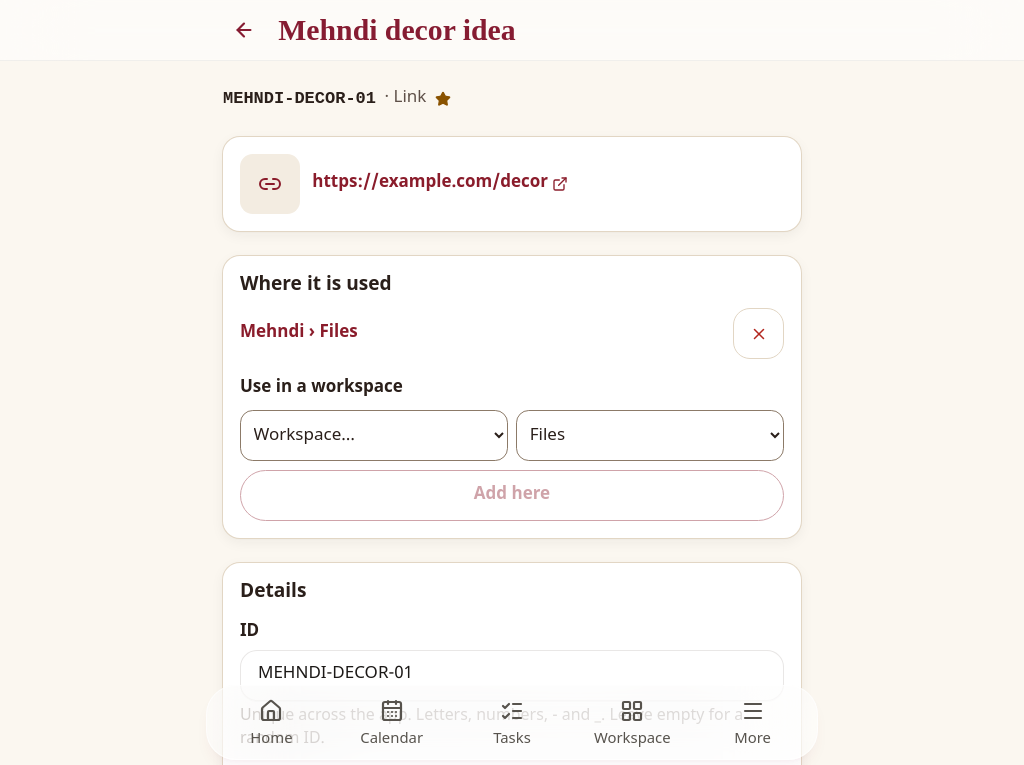
Test case: Attachment Vault › an attachment: the ID is checked while typing; where it is used; remove from one place with Undo
The image size is (1024, 765).
Replace the text in the field labelled "ID" with "TENT-1" at (512, 675), box [240,650,784,700]
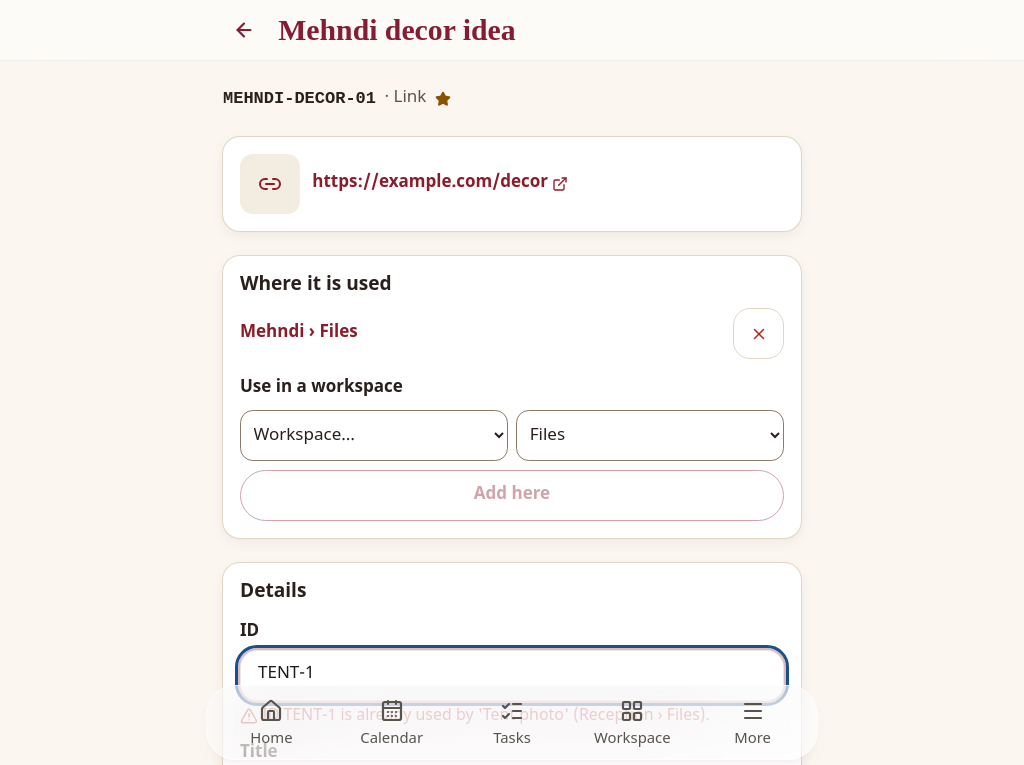
Expected: the text "ID TENT-1 is already used by 'Tent photo' (Reception › Files)." is shown, [262,705,710,728]
Click the button named "Remove from Mehndi › Files".
click(758, 334)  # box [733,308,784,359]
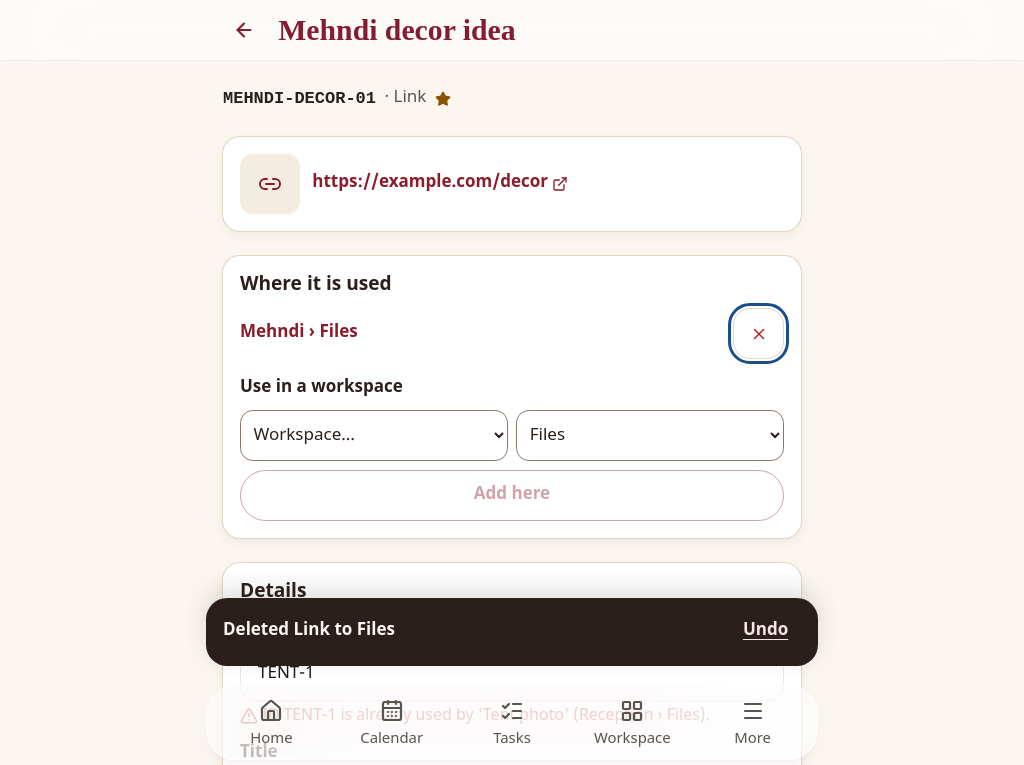
Expected: the text "Deleted Link to Files" is shown, [223,620,395,642]
